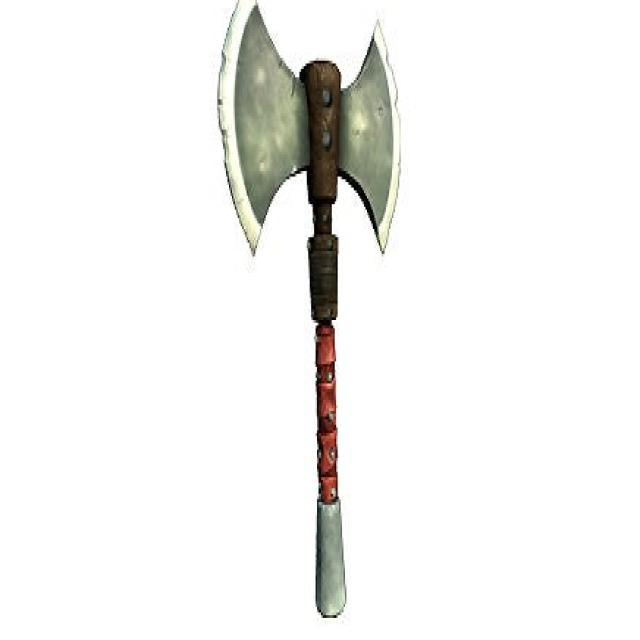Gun: (195, 0, 412, 629)
